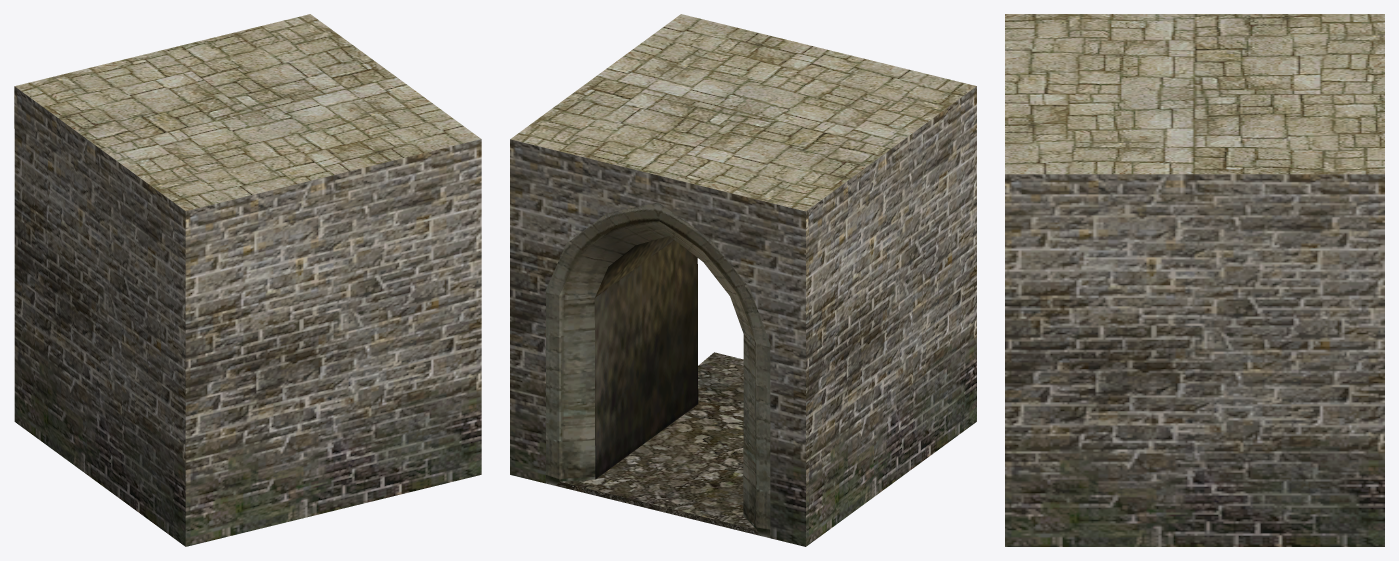
File: building_sallyport.glb
3 renders of one model, left to right at view 1: azimuth 30°, elevation 25°; view 2: azimuth 150°, elevation 25°; view 3: azimuth 270°, elevation 25°, orthographic. The views are drawn at different scales.
Visible parts, largest first — view 1: building_sallyport; view 2: building_sallyport; view 3: building_sallyport.
Part boxes in pixels (x1,y1,x2,y2): building_sallyport: (14, 14, 481, 546); building_sallyport: (510, 14, 976, 546); building_sallyport: (1005, 14, 1384, 546).
Bounding box in the file's own units: 6.15 × 6.66 × 6.15.
Materials: 4 (4 with a texture image).
